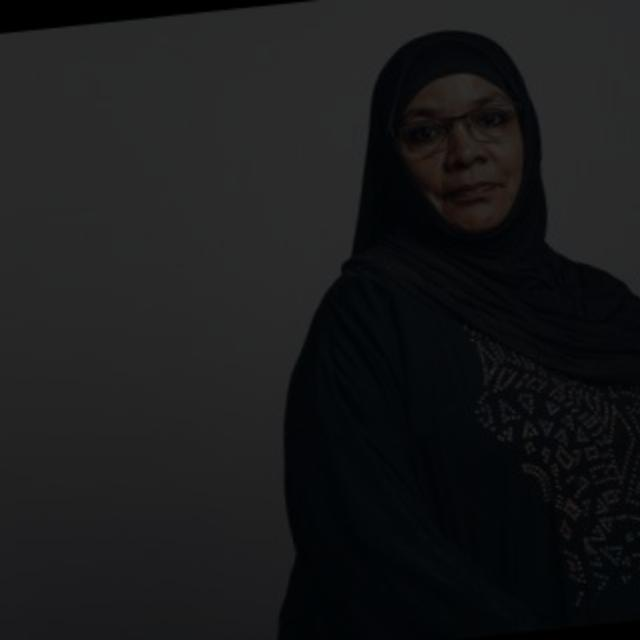Natural: (346, 65, 555, 281)
